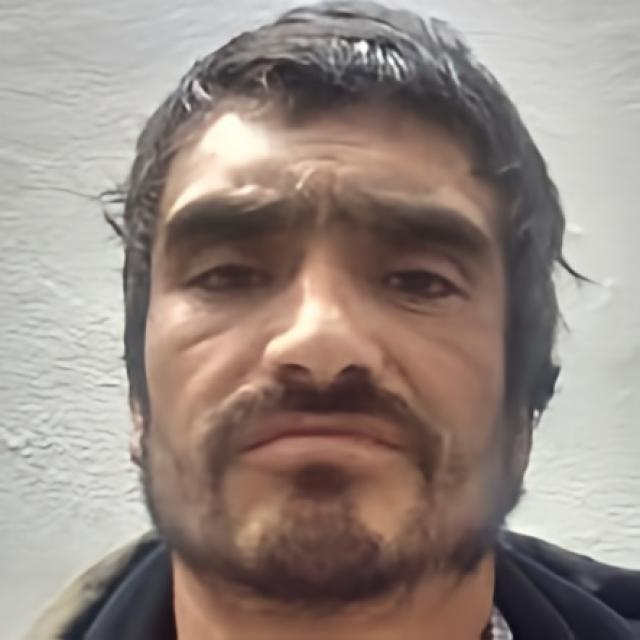sad: (140, 99, 512, 606)
